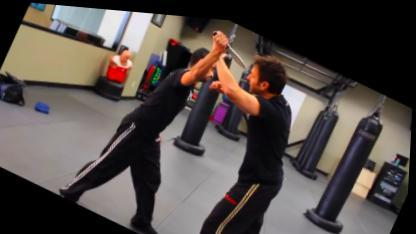knife: (202, 21, 257, 66)
